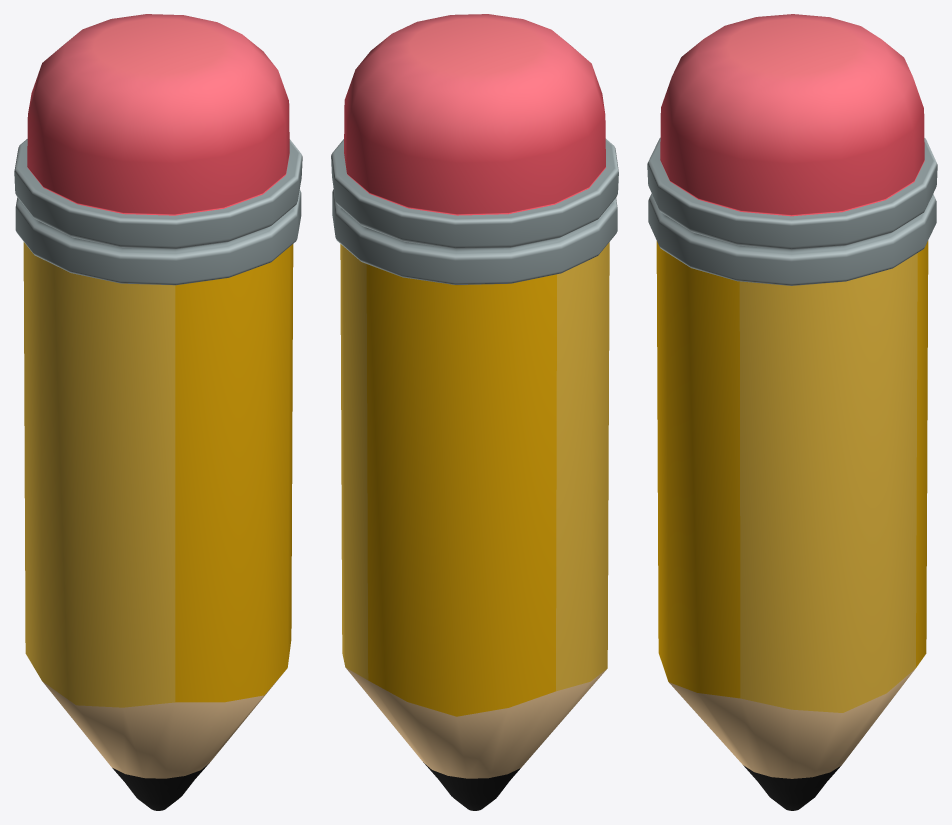
Rendered from pencil.fbx.
3 views of the same model, side by side, from view 1: azimuth 30°, elevation 25°; view 2: azimuth 150°, elevation 25°; view 3: azimuth 270°, elevation 25° (orthographic).
Parts seen in each view (by area): view 1: pencil; view 2: pencil; view 3: pencil.
Boxes of the visible parts, box(x1,y1,x2,y2) form: pencil: box(14, 14, 302, 810); pencil: box(331, 14, 618, 810); pencil: box(647, 14, 937, 810).
Bounding box in the file's own units: 0.4809 × 1.39 × 0.4809.
